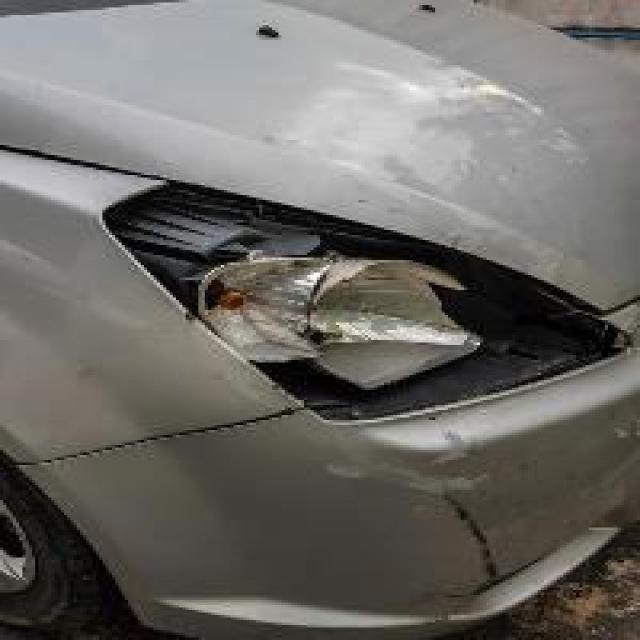Light: (93, 165, 640, 418)
